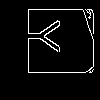Y: (25, 19, 69, 52)
